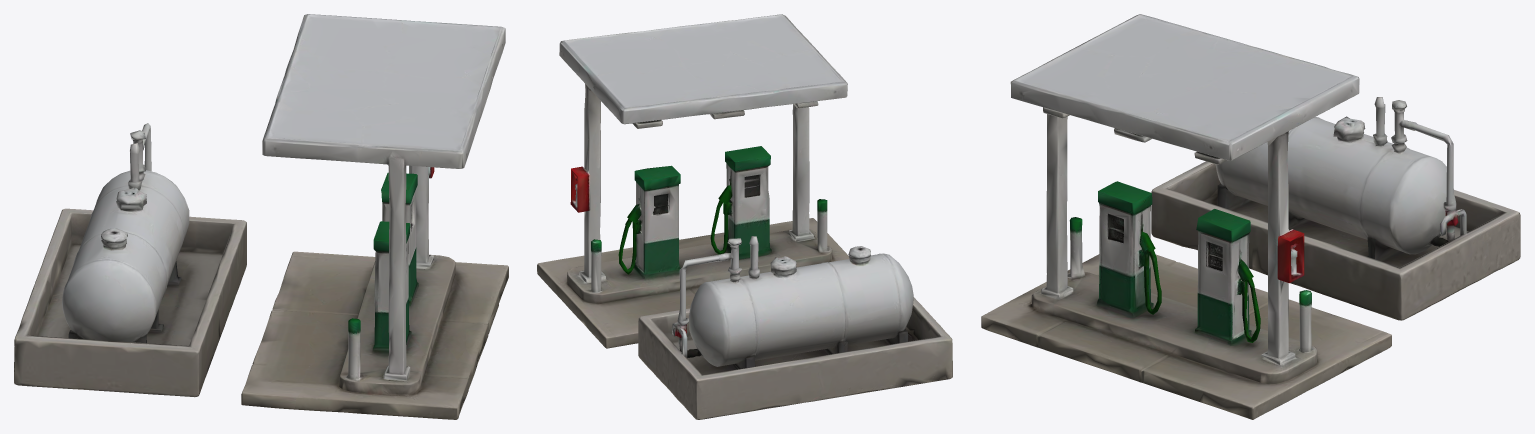
File: avgas.glb
3 renders of one model, left to right at view 1: azimuth 30°, elevation 25°; view 2: azimuth 150°, elevation 25°; view 3: azimuth 270°, elevation 25°, orthographic. The views are drawn at different scales.
Visible parts, largest first — view 1: tripo_node_27b5bc30-8375-4e3a-aad3-1694d8b61a2a; view 2: tripo_node_27b5bc30-8375-4e3a-aad3-1694d8b61a2a; view 3: tripo_node_27b5bc30-8375-4e3a-aad3-1694d8b61a2a.
Boxes of the visible parts, x1,y1,x2,y2 form: tripo_node_27b5bc30-8375-4e3a-aad3-1694d8b61a2a: (14, 14, 508, 419); tripo_node_27b5bc30-8375-4e3a-aad3-1694d8b61a2a: (537, 14, 952, 419); tripo_node_27b5bc30-8375-4e3a-aad3-1694d8b61a2a: (981, 14, 1520, 419).
Bounding box in the file's own units: 1.21 × 0.6322 × 1.15.
Materials: 1 (1 with a texture image).
